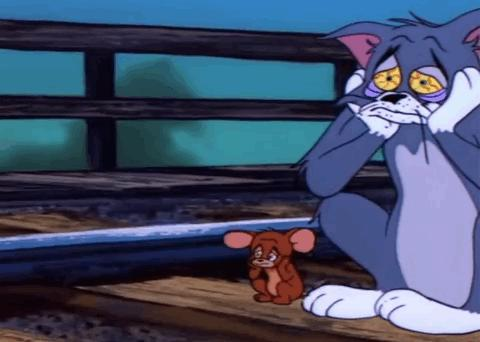jerry: (221, 227, 322, 307)
